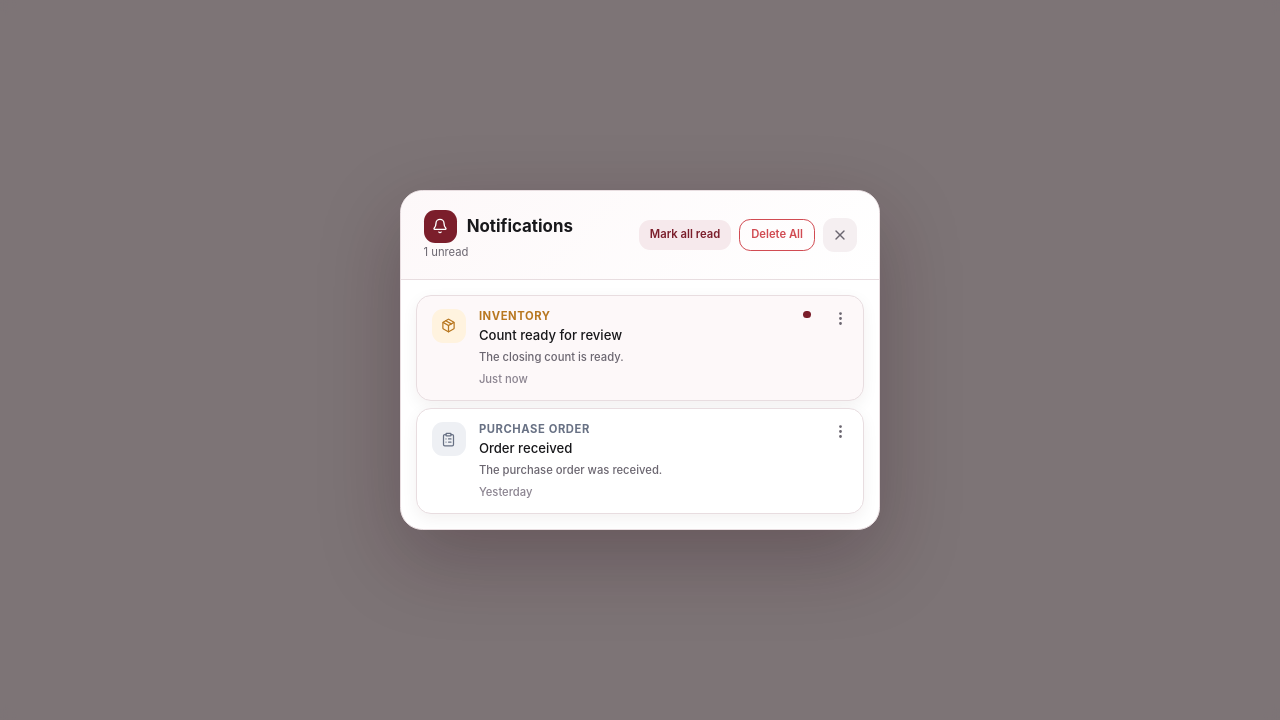
Test case: notification deletion controls › opens the three-dot menu and cancels individual deletion without changes
The image size is (1280, 720).
What coordinates should you click on to do the following:
click the button named "Actions for Count ready for review"
I would click on:
 (840, 318)
Its box is top-left (826, 304), bottom-right (856, 334).
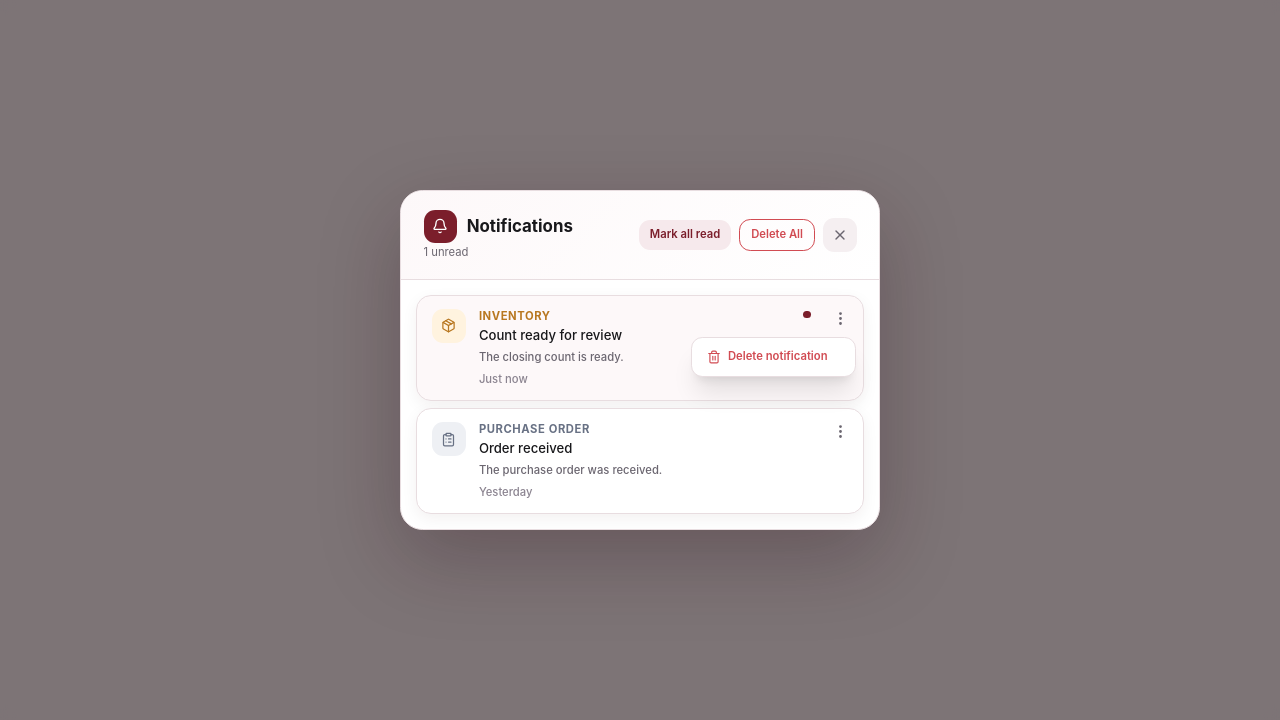
What coordinates should you click on to do the following:
click the button "Delete notification"
I would click on:
 (773, 357)
Its box is top-left (695, 342), bottom-right (851, 372).
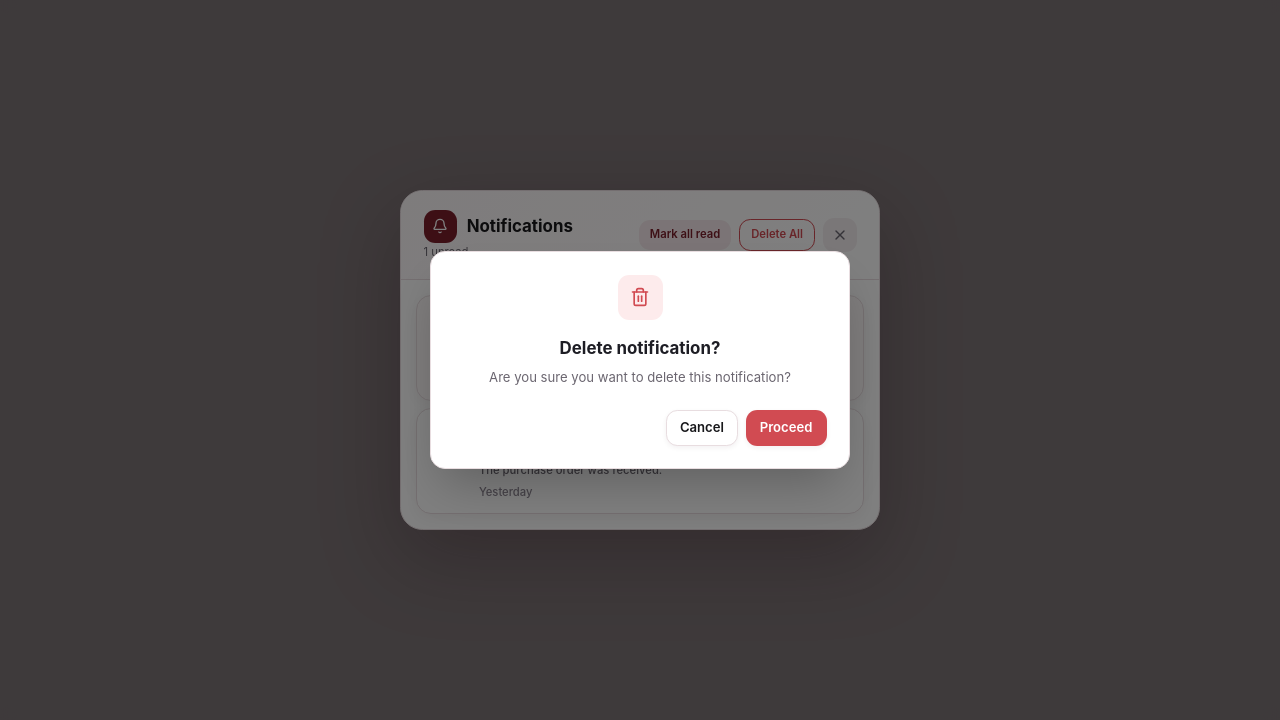
Check: the text "Are you sure you want to delete this notification?" is shown, box top-left (489, 369), bottom-right (791, 385)
What coordinates should you click on to do the following:
click the button "Cancel"
I would click on:
 (702, 428)
Its box is top-left (666, 410), bottom-right (738, 446).
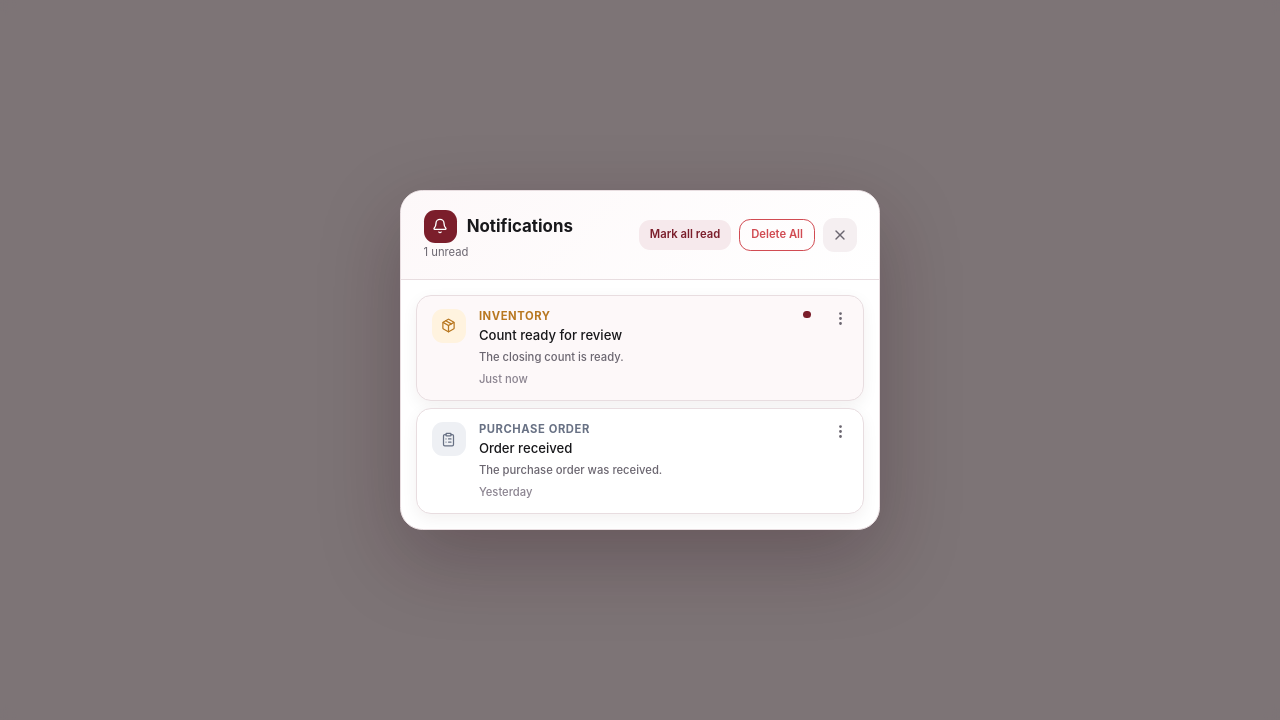
Check: the text "Count ready for review" is shown, box top-left (479, 327), bottom-right (622, 343)
Check: the text "Are you sure you want to delete this notification?" is gone
